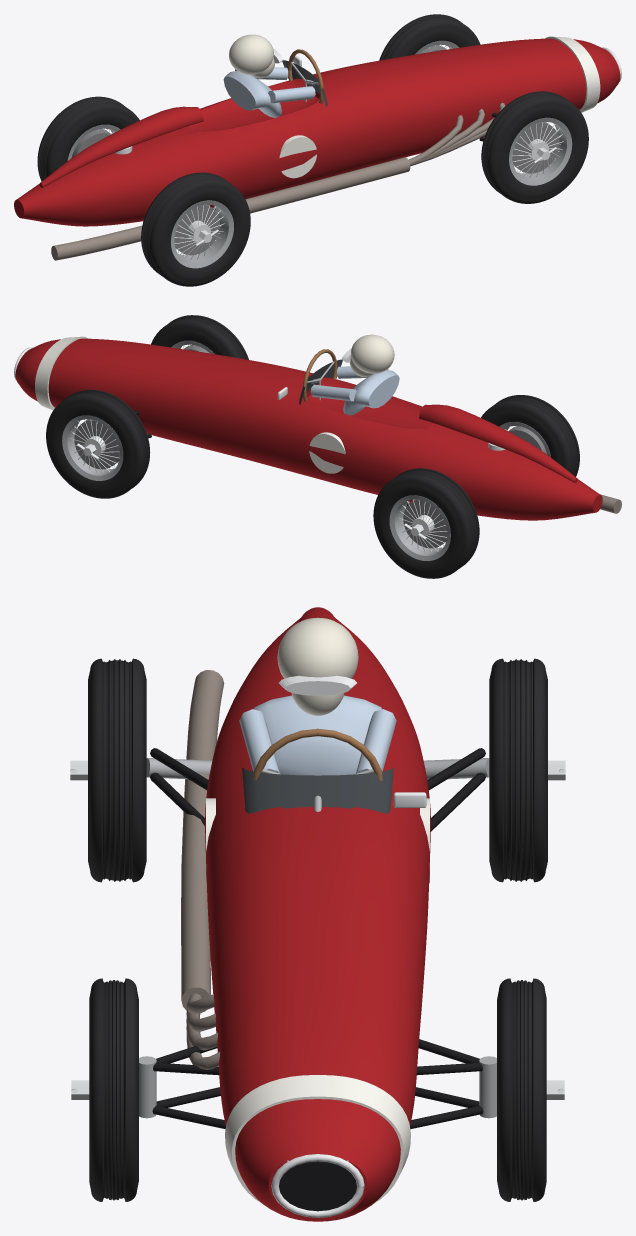
File: classic.glb
The picture shows the model from 3 angles, top to bottom: view 1: azimuth 30°, elevation 25°; view 2: azimuth 150°, elevation 25°; view 3: azimuth 270°, elevation 25°; orthographic projection. The views are drawn at different scales.
Visible parts, largest first — view 1: Chassis, Tyre_RR, Tyre_FR, Exhaust, Tyre_RL, Driver, Headrest, Tyre_FL, Nose_Band, Roundel_R, SteeringWheel, Windscreen; view 2: Chassis, Tyre_RL, Tyre_FL, Tyre_RR, Driver, Headrest, Tyre_FR, Nose_Band, Roundel_L, SteeringWheel, Windscreen; view 3: Chassis, Driver, Tyre_RL, Tyre_RR, Tyre_FL, Tyre_FR, Exhaust, Suspension_Front, Nose_Band, Windscreen, Suspension_Rear, Grille (+2 smaller).
Part boxes in pixels (bbox=[...]): Chassis: bbox=[14, 38, 620, 226]; Tyre_RR: bbox=[141, 172, 250, 286]; Tyre_FR: bbox=[481, 91, 588, 203]; Exhaust: bbox=[51, 102, 505, 260]; Tyre_RL: bbox=[37, 96, 139, 181]; Driver: bbox=[223, 34, 315, 117]; Headrest: bbox=[39, 106, 203, 187]; Tyre_FL: bbox=[379, 14, 480, 60]; Nose_Band: bbox=[545, 36, 600, 112]; Roundel_R: bbox=[279, 135, 316, 178]; SteeringWheel: bbox=[288, 49, 323, 103]; Windscreen: bbox=[282, 60, 327, 106]; Chassis: bbox=[15, 338, 602, 520]; Tyre_RL: bbox=[373, 468, 479, 578]; Tyre_FL: bbox=[46, 389, 150, 498]; Tyre_RR: bbox=[481, 395, 579, 476]; Driver: bbox=[310, 334, 399, 415]; Headrest: bbox=[419, 404, 577, 483]; Tyre_FR: bbox=[151, 315, 248, 359]; Nose_Band: bbox=[35, 336, 87, 410]; Roundel_L: bbox=[309, 432, 345, 473]; SteeringWheel: bbox=[302, 349, 337, 401]; Windscreen: bbox=[299, 359, 342, 404]; Chassis: bbox=[205, 617, 430, 1221]; Driver: bbox=[239, 617, 396, 775]; Tyre_RL: bbox=[489, 658, 565, 882]; Tyre_RR: bbox=[70, 658, 146, 882]; Tyre_FL: bbox=[497, 978, 564, 1201]; Tyre_FR: bbox=[71, 978, 138, 1201]; Exhaust: bbox=[181, 670, 224, 1069]; Suspension_Front: bbox=[139, 1039, 496, 1129]; Nose_Band: bbox=[225, 1075, 410, 1203]; Windscreen: bbox=[242, 767, 393, 813]; Suspension_Rear: bbox=[146, 748, 489, 831]; Grille: bbox=[279, 1161, 356, 1211].
Size of the model in its own units: 4.02 by 1.18 by 1.51.
